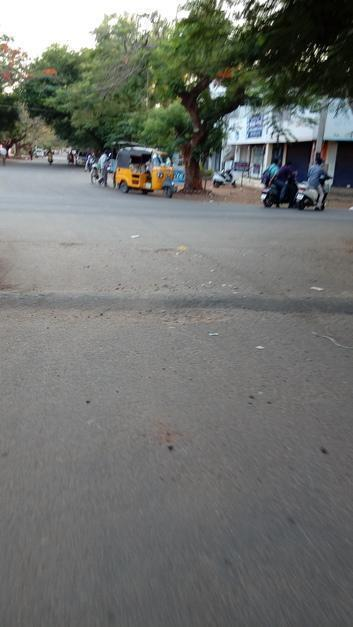speedbreaker: (0, 280, 352, 321)
